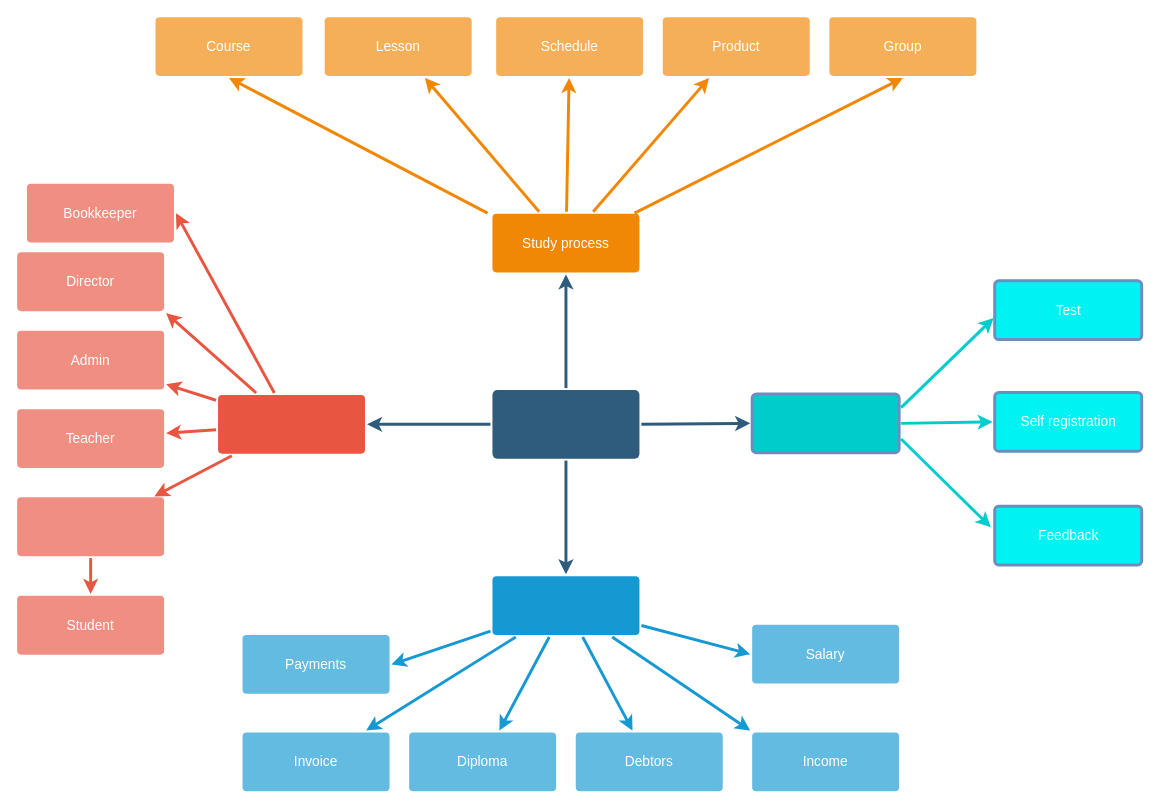
The diagram is 1159 pixels wide and 808 high, and some of its shapes have lost their labels. Here are the shapes that lost their labels. From the top down, the centre of each, then its label:
At (x=291, y=423): "USER".
At (x=565, y=424): "SCHOOL".
At (x=825, y=423): "Web form".
At (x=90, y=526): "Customer".
At (x=565, y=605): "REPORT".
